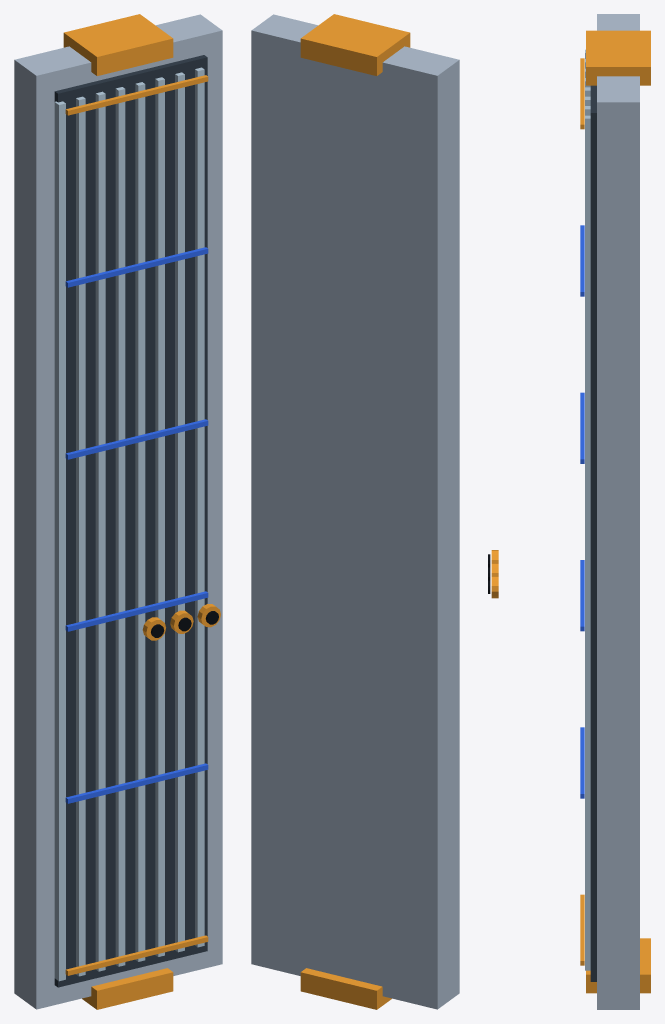
Rendered from 55_L89_ShieldPanelStarboard.fbx.
3 views of the same model, side by side, from view 1: azimuth 30°, elevation 25°; view 2: azimuth 150°, elevation 25°; view 3: azimuth 270°, elevation 25° (orthographic). The views are drawn at different scales.
Parts seen in each view (by area): view 1: L87_ShieldPanelStarboard_Part_0002, L87_ShieldPanelStarboard_Part_0001, L87_ShieldPanelStarboard_Part_0000, L87_ShieldPanelStarboard_Part_0003, L87_ShieldPanelStarboard_Part_0004; view 2: L87_ShieldPanelStarboard_Part_0000, L87_ShieldPanelStarboard_Part_0003; view 3: L87_ShieldPanelStarboard_Part_0000, L87_ShieldPanelStarboard_Part_0001, L87_ShieldPanelStarboard_Part_0002, L87_ShieldPanelStarboard_Part_0003, L87_ShieldPanelStarboard_Part_0004.
Boxes of the visible parts, left/top/right/bottom form: L87_ShieldPanelStarboard_Part_0002: left=54, top=67, right=204, bottom=981; L87_ShieldPanelStarboard_Part_0001: left=54, top=55, right=207, bottom=987; L87_ShieldPanelStarboard_Part_0000: left=14, top=14, right=222, bottom=1009; L87_ShieldPanelStarboard_Part_0003: left=63, top=14, right=208, bottom=1009; L87_ShieldPanelStarboard_Part_0004: left=65, top=247, right=208, bottom=803; L87_ShieldPanelStarboard_Part_0000: left=251, top=14, right=459, bottom=1009; L87_ShieldPanelStarboard_Part_0003: left=300, top=14, right=410, bottom=1009; L87_ShieldPanelStarboard_Part_0000: left=597, top=14, right=639, bottom=1009; L87_ShieldPanelStarboard_Part_0001: left=590, top=85, right=596, bottom=981; L87_ShieldPanelStarboard_Part_0002: left=585, top=49, right=590, bottom=970; L87_ShieldPanelStarboard_Part_0003: left=580, top=30, right=650, bottom=993; L87_ShieldPanelStarboard_Part_0004: left=580, top=225, right=584, bottom=798.
Size of the model in its own units: 122 by 597 by 95.2.
